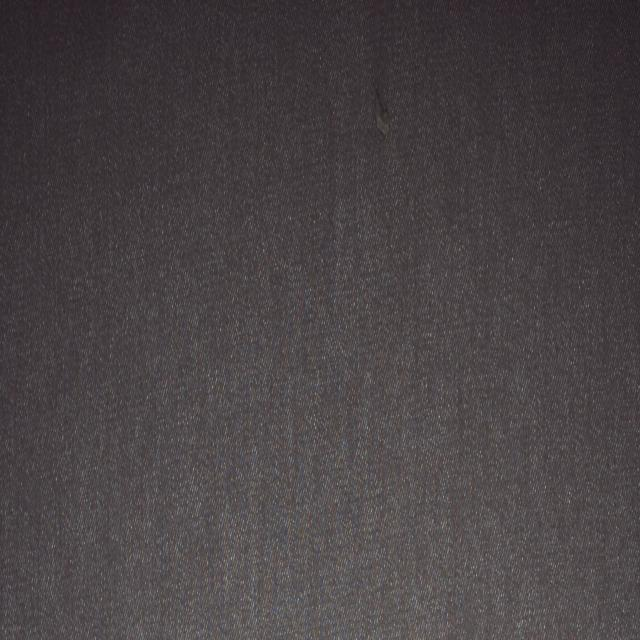Stain: (376, 82, 392, 140)
